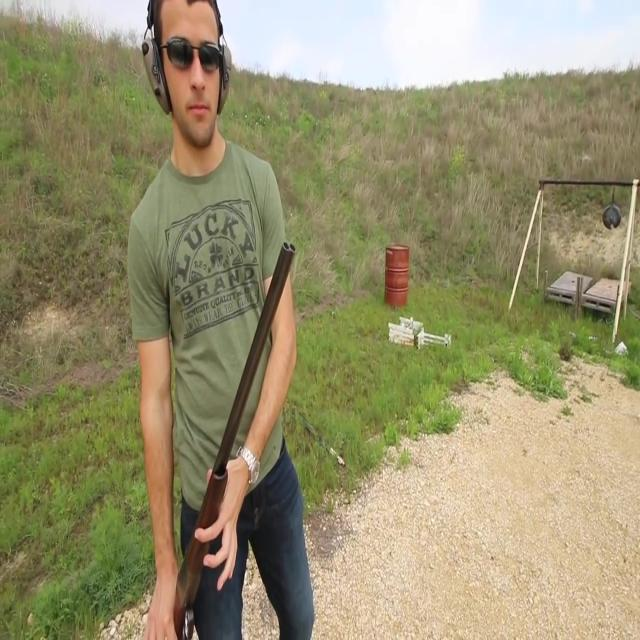Weapon: (144, 210, 306, 640)
